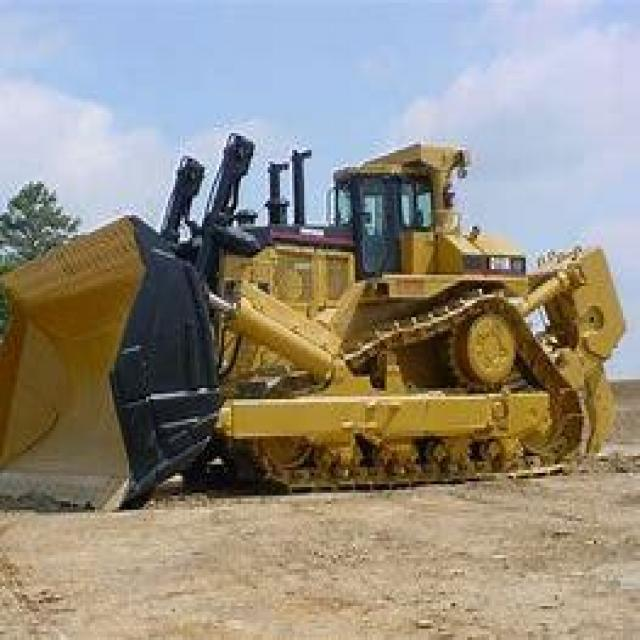Bulldozer: (0, 74, 638, 592)
